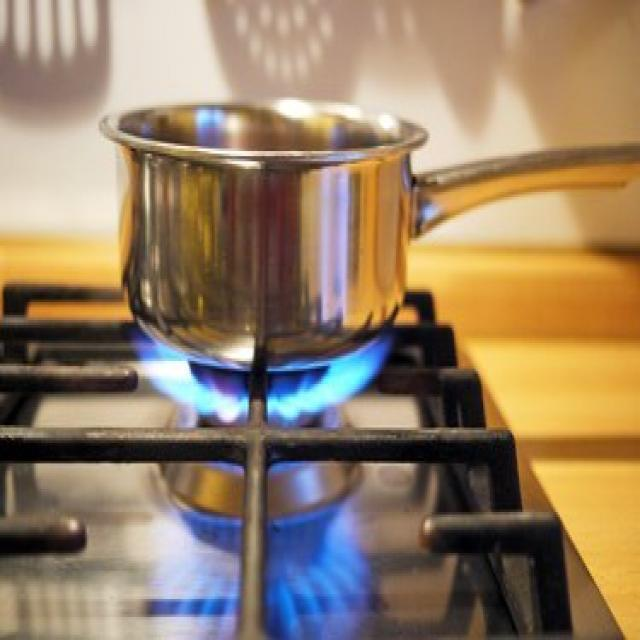Flame: (136, 344, 398, 411)
Pan: (84, 79, 640, 339)
